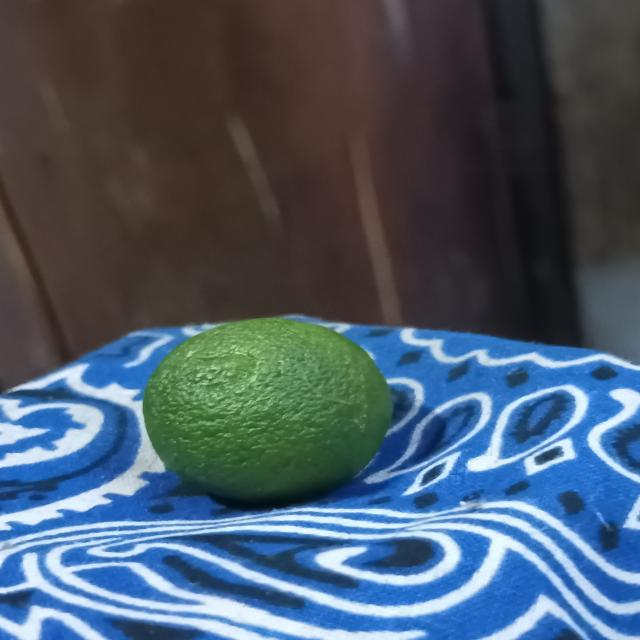heathy: (140, 316, 406, 506)
